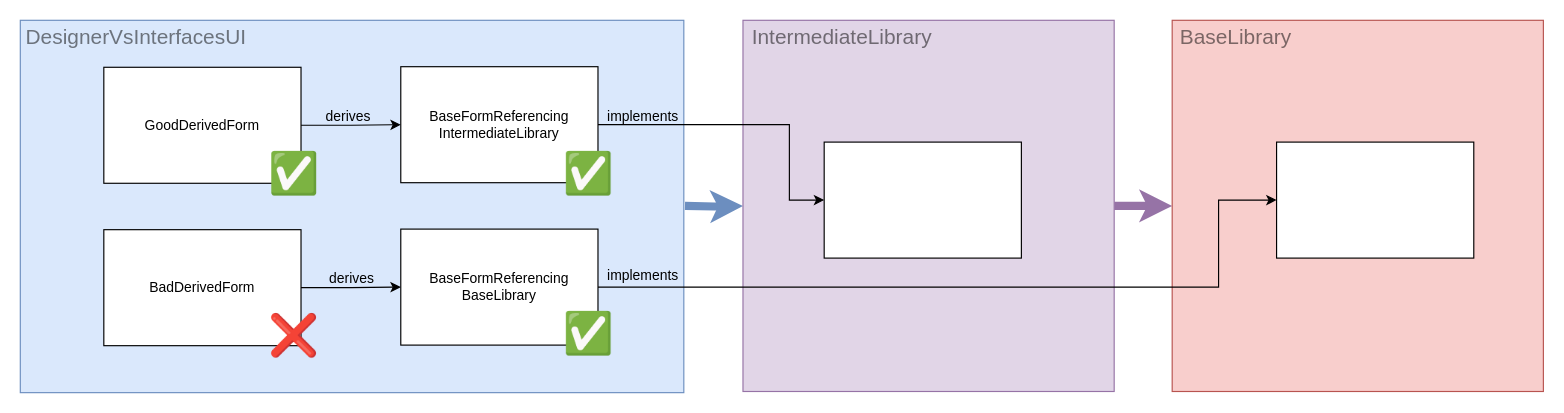
The diagram is 1564 pixels wide and 413 high, and some of its shapes have lost their labels. Each missing label, with the box of its shape:
IBaseObject: (1275, 141, 1474, 258)
IIntermediateObject: (823, 141, 1021, 258)
